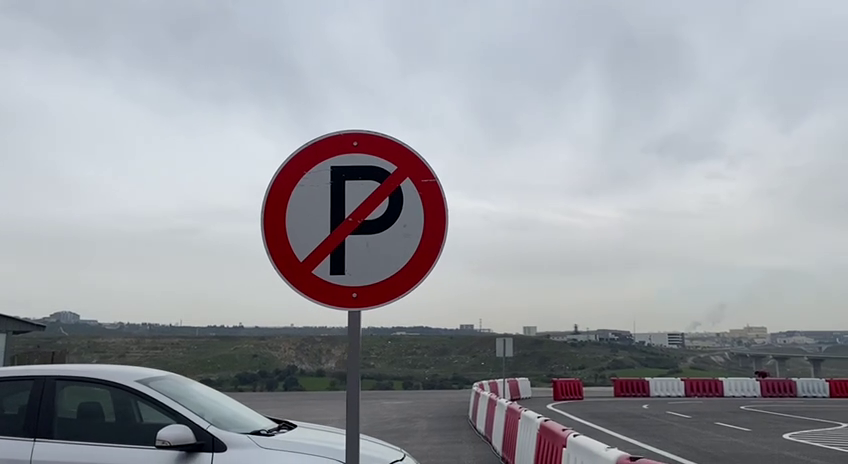noparking: (253, 118, 456, 322)
